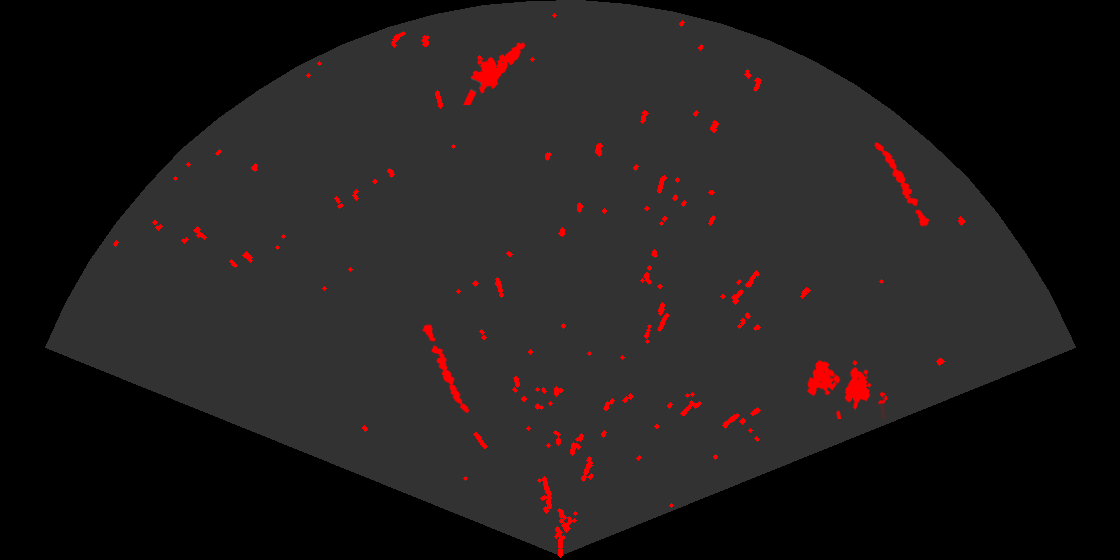cage: (806, 359, 885, 419)
chain: (873, 141, 931, 228), (421, 322, 471, 415)
frogman: (462, 41, 527, 105)
